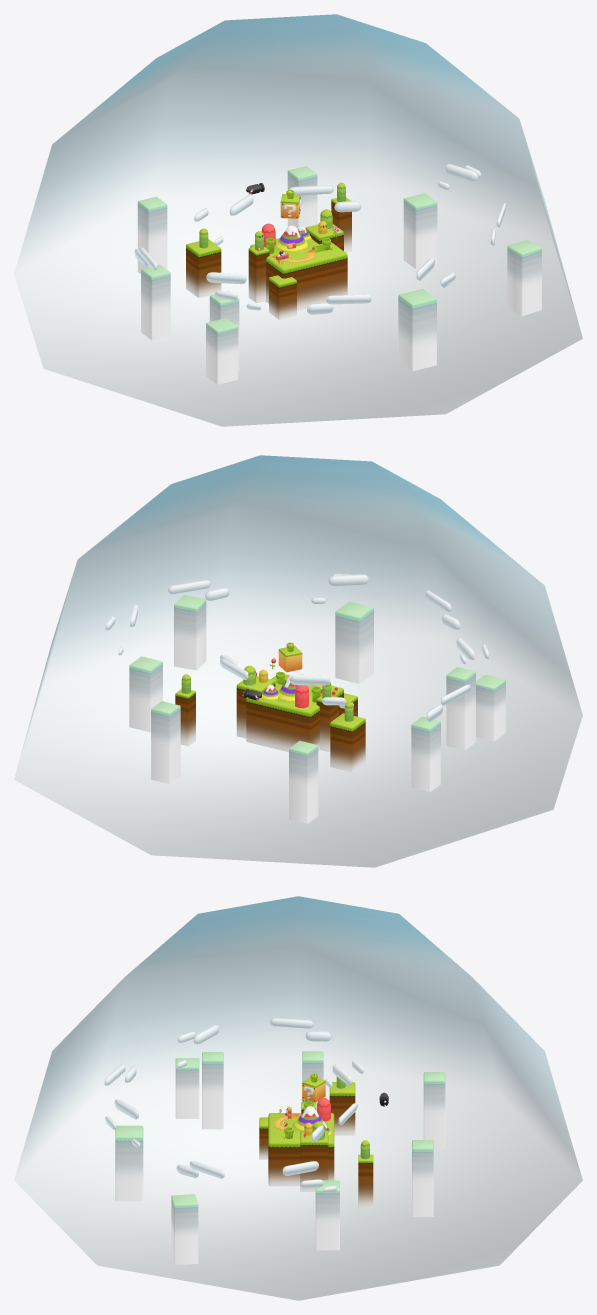
The model's file is mario_world2.glb.
The picture shows the model from 3 angles, top to bottom: view 1: azimuth 30°, elevation 25°; view 2: azimuth 150°, elevation 25°; view 3: azimuth 270°, elevation 25°; orthographic projection. The views are drawn at different scales.
Parts seen in each view (by area): view 1: Sphere.012_23, Cube_0, Cube.021_50, Cube.024_53, Cube.020_49, Cube.023_52, Cube.022_51, Cube.017_46, Cube.011_41, Cube.018_47, Cube.003_7, Cube.002_2 (+3 smaller); view 2: Sphere.012_23, Cube_0, Cube.021_50, Cube.017_46, Cube.018_47, Cube.024_53, Cube.019_48, Cube.020_49, Cube.023_52, Cube.022_51, Cube.011_41, Cube.013_42 (+3 smaller); view 3: Sphere.012_23, Cube_0, Cube.021_50, Cube.024_53, Cube.019_48, Cube.018_47, Cube.017_46, Cube.020_49, Cube.022_51, Cube.001_1, Cube.011_41, Cube.013_42 (+1 smaller).
Boxes of the visible parts, x1,y1,x2,y2 form: Sphere.012_23: (14, 14, 582, 426); Cube_0: (250, 238, 347, 310); Cube.021_50: (398, 289, 436, 370); Cube.024_53: (507, 240, 541, 315); Cube.020_49: (403, 193, 437, 268); Cube.023_52: (141, 264, 170, 340); Cube.022_51: (206, 318, 238, 384); Cube.017_46: (137, 196, 167, 273); Cube.011_41: (186, 239, 221, 297); Cube.018_47: (287, 166, 317, 228); Cube.003_7: (269, 275, 296, 319); Cube.002_2: (248, 246, 269, 302); Sphere.012_23: (14, 455, 582, 867); Cube_0: (246, 674, 343, 752); Cube.021_50: (335, 601, 373, 683); Cube.017_46: (289, 740, 318, 823); Cube.018_47: (151, 701, 180, 783); Cube.024_53: (174, 595, 206, 670); Cube.019_48: (446, 667, 475, 749); Cube.020_49: (129, 656, 162, 732); Cube.023_52: (411, 716, 440, 792); Cube.022_51: (476, 675, 505, 741); Cube.011_41: (330, 713, 365, 772); Cube.013_42: (175, 689, 195, 746); Sphere.012_23: (14, 896, 582, 1300); Cube_0: (268, 1113, 334, 1186); Cube.021_50: (115, 1125, 143, 1201); Cube.024_53: (171, 1194, 198, 1264); Cube.019_48: (202, 1052, 223, 1129); Cube.018_47: (412, 1140, 433, 1216); Cube.017_46: (423, 1072, 445, 1149); Cube.020_49: (315, 1180, 339, 1250); Cube.022_51: (175, 1058, 199, 1118); Cube.001_1: (300, 1130, 328, 1191); Cube.011_41: (329, 1082, 355, 1135); Cube.013_42: (358, 1154, 373, 1208).
Bounding box in the file's own units: 153 × 84.42 × 153.
Materials: 14 (14 with a texture image).
